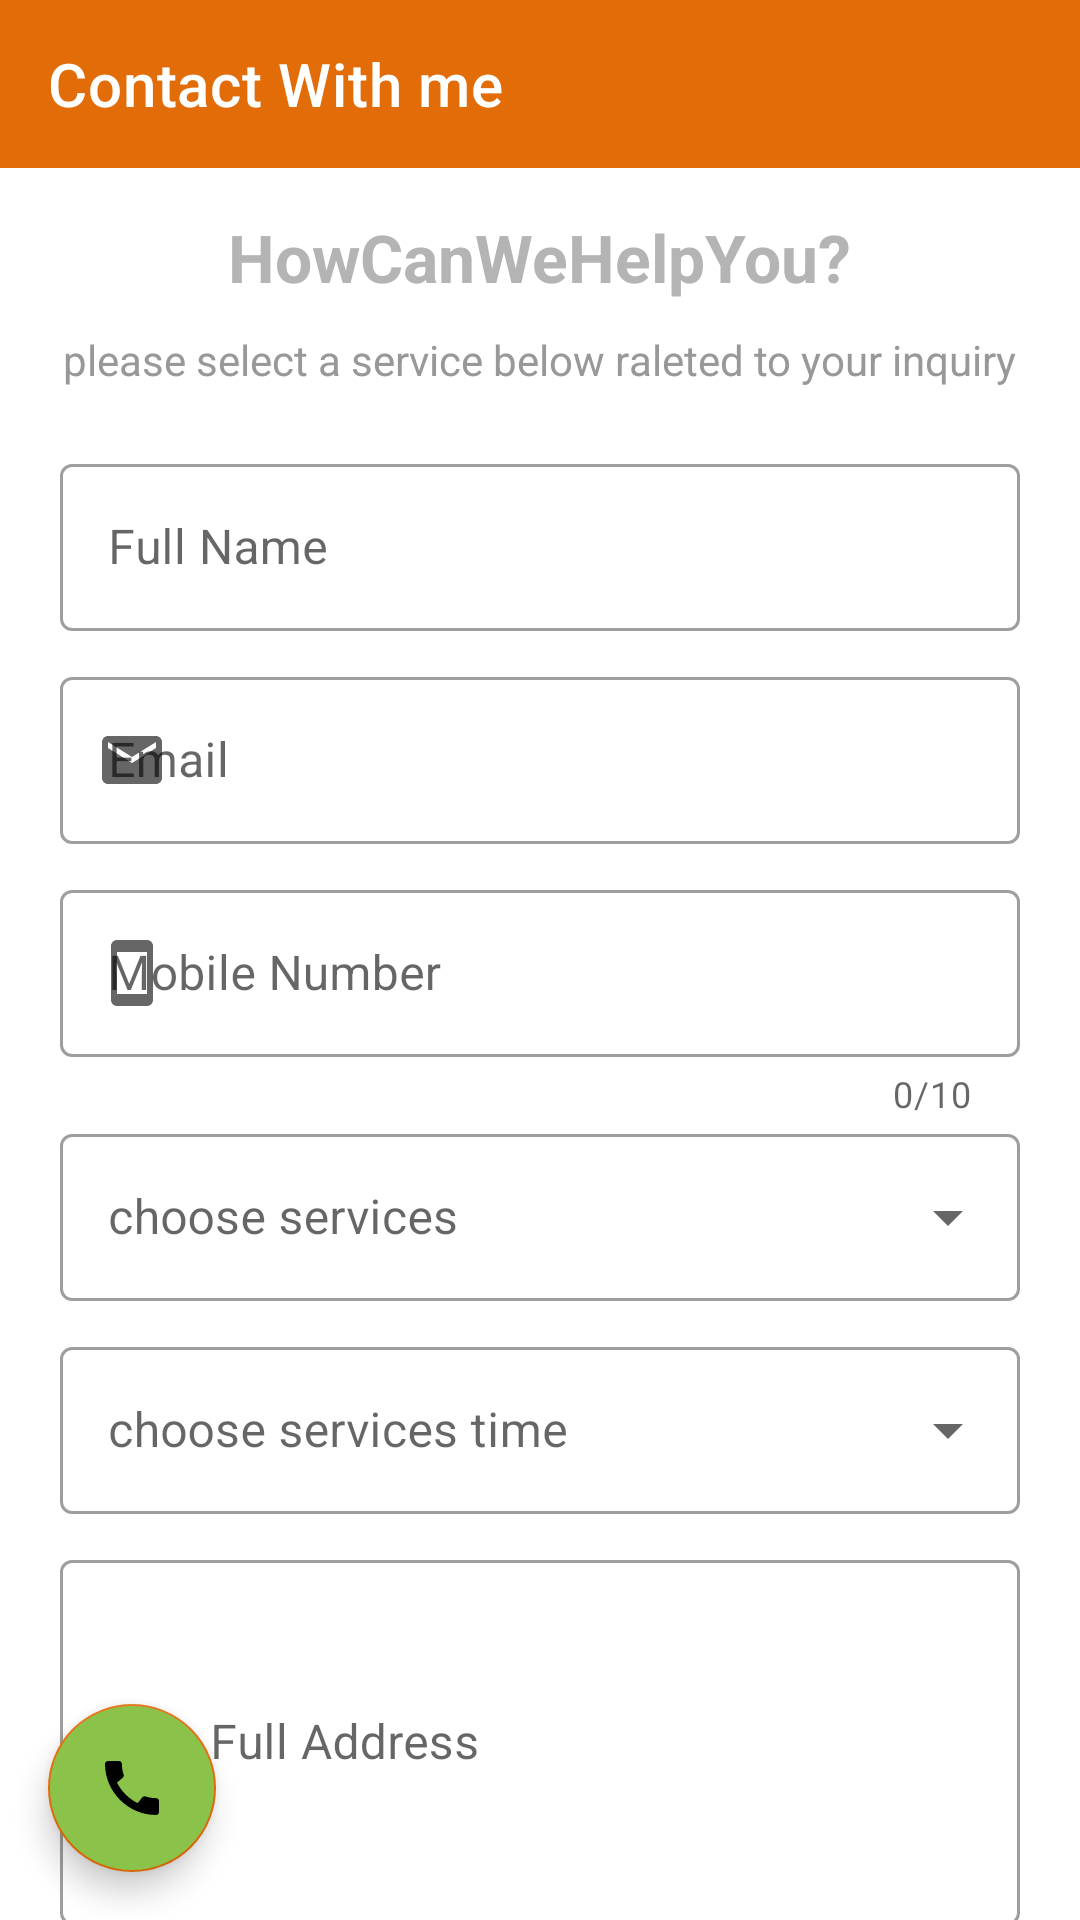

Locate icon controls on the screen. Image size 1080px×1920px, boxes as rect(x1, y1, x2, y2).
call: rect(48, 1704, 216, 1872)
